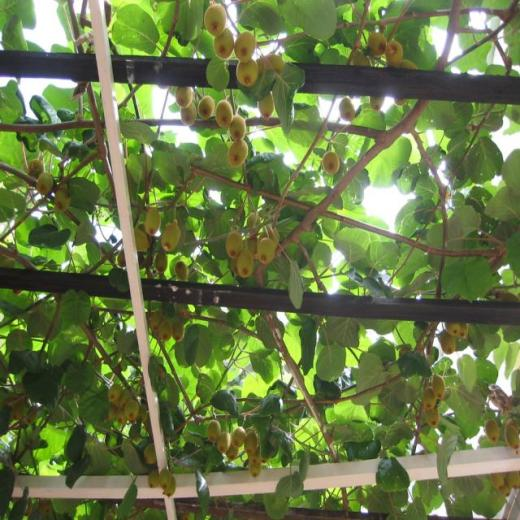Orange: (204, 2, 286, 122), (177, 88, 248, 168), (206, 416, 270, 479), (225, 213, 282, 277), (106, 384, 147, 424), (368, 32, 388, 57), (162, 222, 178, 252), (321, 150, 340, 175), (338, 97, 356, 121), (384, 41, 402, 65), (55, 186, 72, 210), (27, 158, 45, 180), (146, 210, 160, 237), (37, 171, 52, 195), (432, 375, 446, 398), (441, 332, 455, 355), (149, 310, 163, 332), (159, 318, 173, 340), (426, 405, 440, 427), (506, 426, 520, 448), (353, 52, 372, 68), (486, 418, 498, 442), (144, 443, 157, 465), (424, 386, 437, 408), (10, 401, 25, 420), (25, 405, 40, 424), (506, 470, 520, 490), (490, 471, 504, 490), (174, 261, 188, 279), (136, 226, 146, 251), (159, 469, 172, 488), (155, 254, 167, 274), (370, 94, 384, 111), (116, 248, 127, 267), (148, 469, 160, 486), (165, 477, 176, 495), (174, 321, 184, 340), (446, 321, 458, 336), (459, 321, 468, 338), (394, 95, 406, 107), (501, 481, 511, 495), (401, 63, 418, 70), (137, 224, 146, 234)
